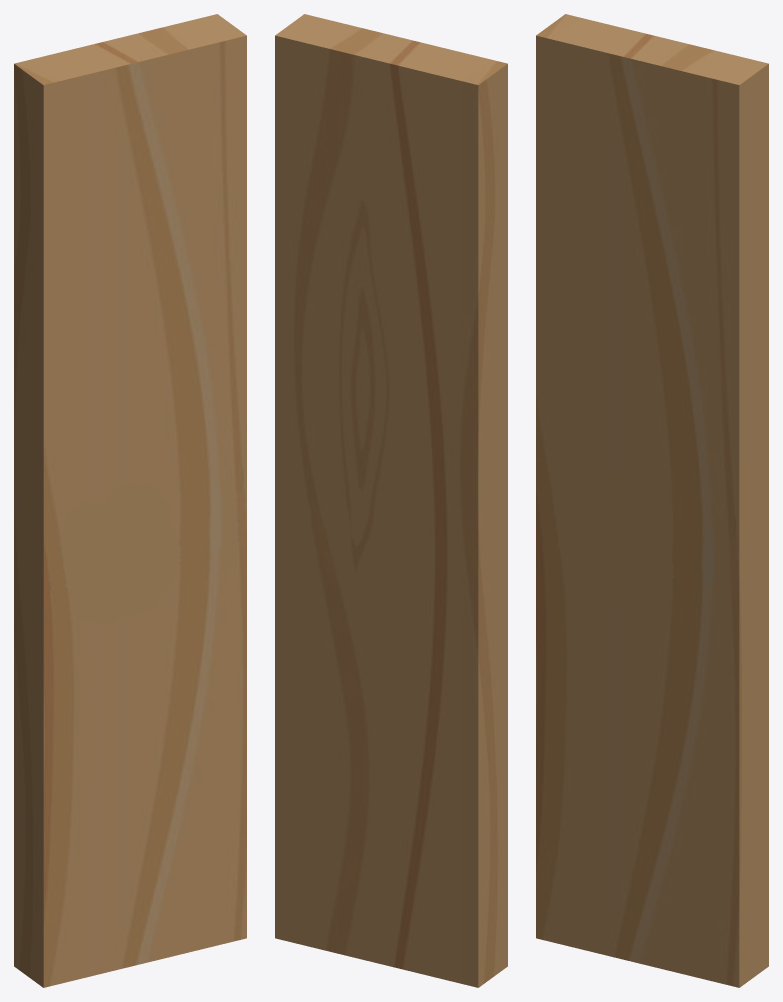
Rendered from wood_log.fbx.
3 views of the same model, side by side, from view 1: azimuth 30°, elevation 25°; view 2: azimuth 150°, elevation 25°; view 3: azimuth 330°, elevation 25° (orthographic).
Parts seen in each view (by area): view 1: wood_log; view 2: wood_log; view 3: wood_log.
Boxes of the visible parts, x1,y1,x2,y2 form: wood_log: (14,14,246,987); wood_log: (275,14,507,987); wood_log: (536,14,768,987).
Size of the model in its own units: 0.343 by 1.45 by 0.0861.
